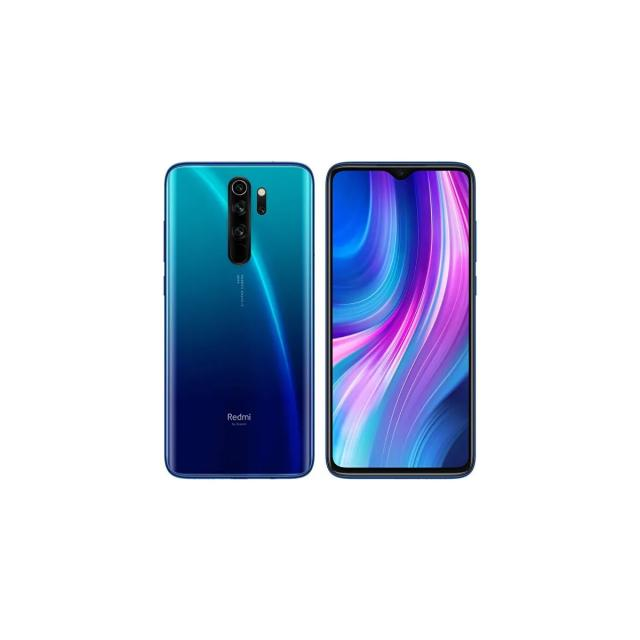Red Mi Note 8 Pro: (161, 161, 320, 482), (326, 162, 477, 482)
